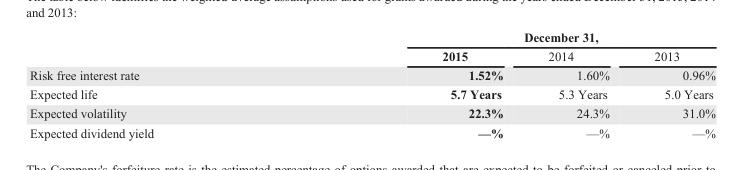table: (29, 29, 714, 139)
table column: (29, 29, 297, 139), (297, 29, 525, 139), (525, 29, 631, 139), (631, 29, 714, 139)
table column header: (29, 29, 714, 65)
table row: (29, 46, 714, 65), (29, 65, 714, 84), (29, 84, 714, 103), (29, 103, 714, 122), (29, 29, 714, 46), (29, 122, 714, 139)
table spanning cell: (297, 29, 714, 46)
